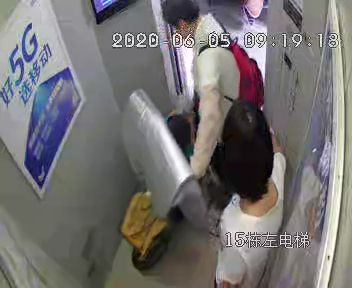Electric-bicycle: (118, 85, 212, 271)
